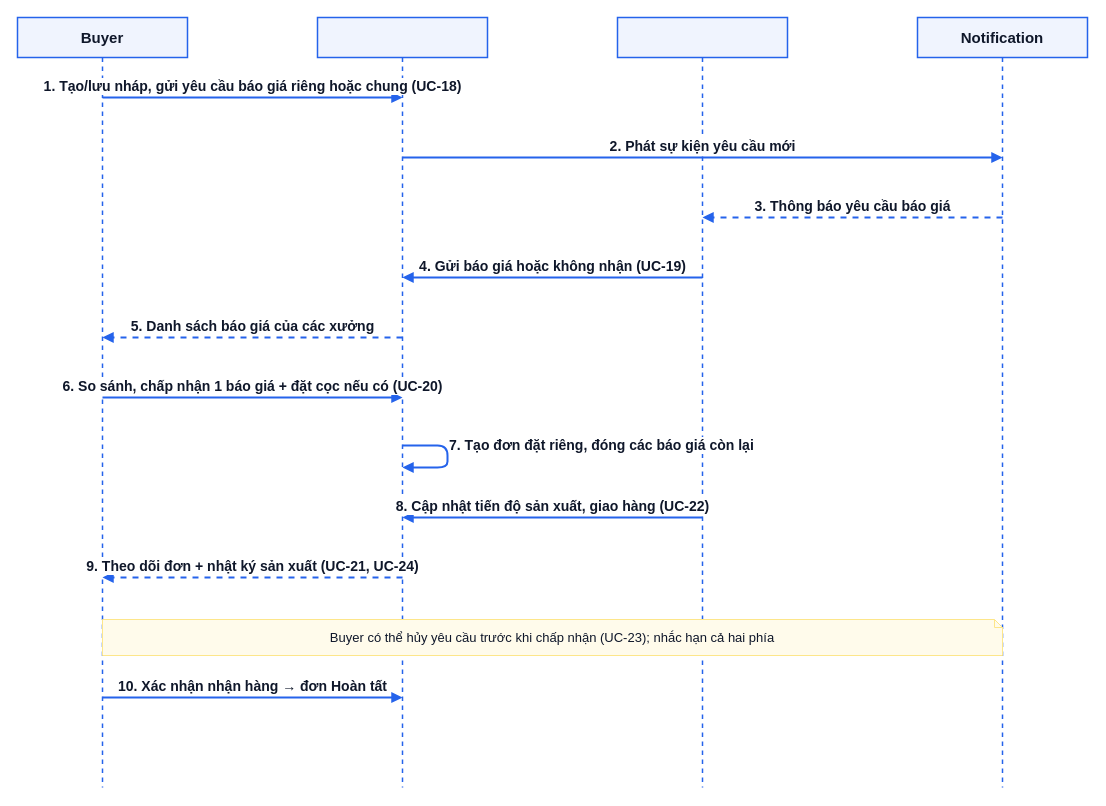
Some shapes in this 1106 by 806 pixel diagram are drawn without their labels. The shapes that lost their labels are listed below. From the top down, each one's box as (x1, y1, x2, y2) in pixels, then its label:
(316, 16, 488, 788): Hệ thống
(616, 16, 788, 788): Artisan (Xưởng)
